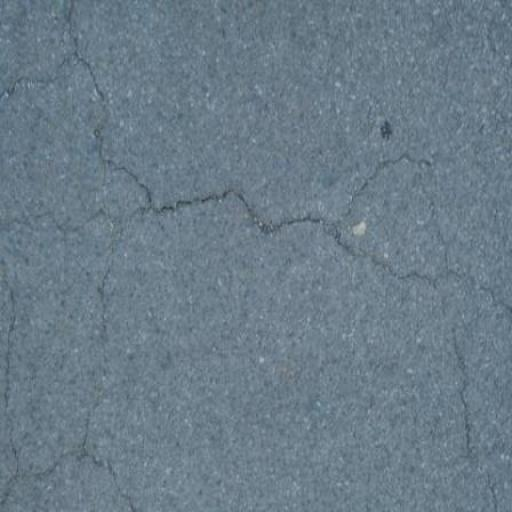spalling: (55, 8, 506, 333), (330, 140, 469, 269)
